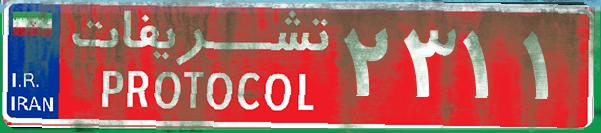1: (460, 20, 520, 115), (520, 20, 580, 115)
2: (340, 20, 400, 115)
3: (400, 20, 460, 115)
تشریفات: (60, 8, 340, 125)
